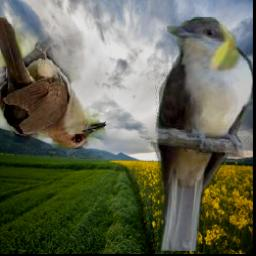Cuckoo: (151, 17, 253, 251), (0, 16, 106, 149)
